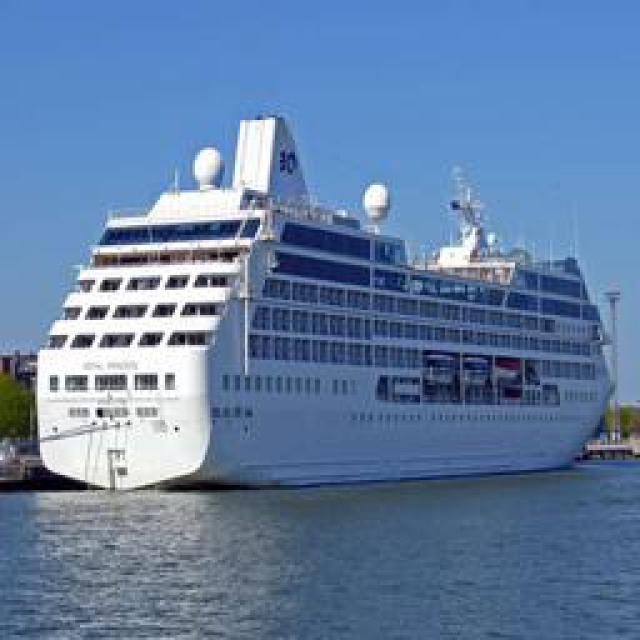Ship: (42, 116, 612, 486)
